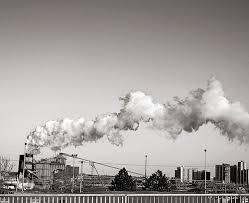smoke: (17, 75, 249, 163)
